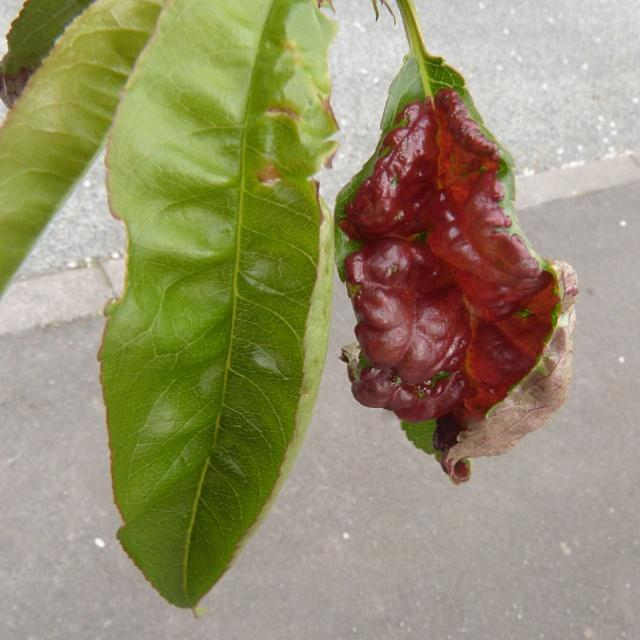leaf_curl: (330, 11, 609, 484)
